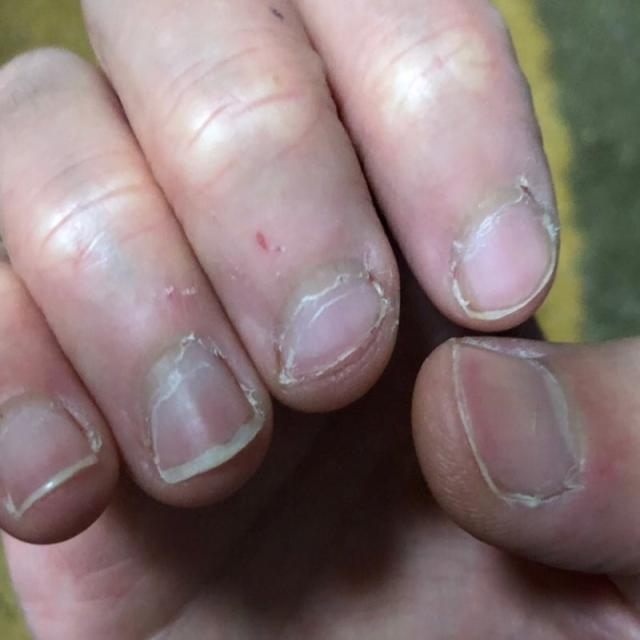Fingernail: (457, 343, 579, 503), (144, 340, 261, 483), (280, 265, 385, 383), (457, 196, 552, 316), (0, 402, 96, 514)
